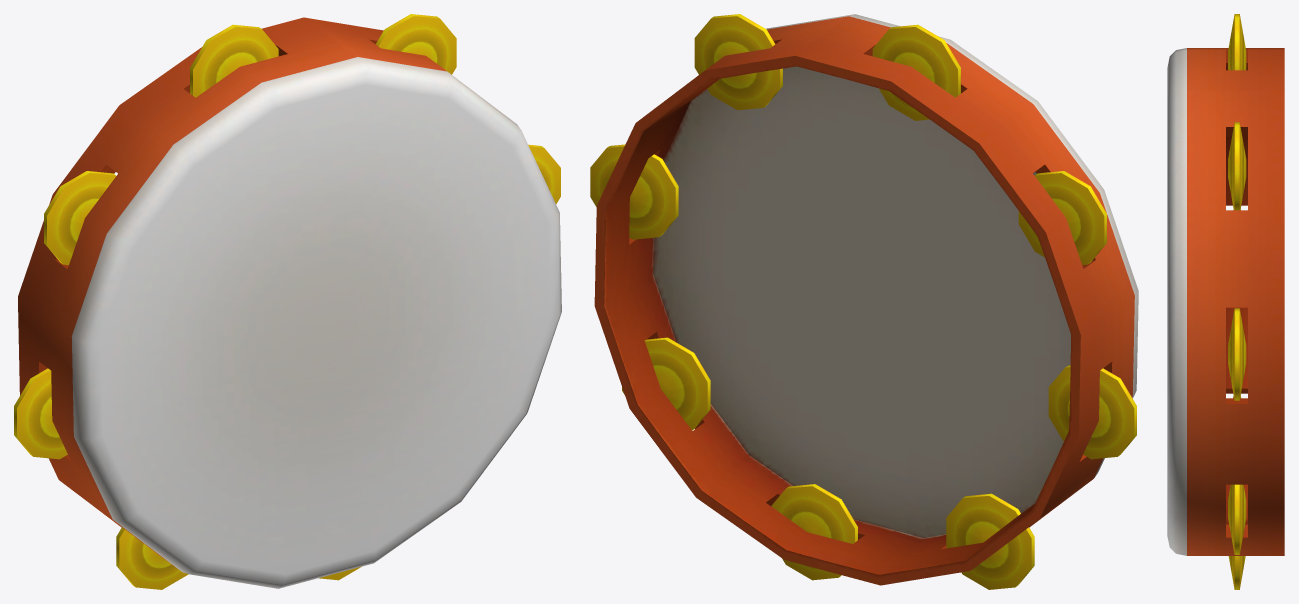
File: tambourine.fbx
3 renders of one model, left to right at view 1: azimuth 30°, elevation 25°; view 2: azimuth 150°, elevation 25°; view 3: azimuth 270°, elevation 25°, orthographic. The views are drawn at different scales.
Parts seen in each view (by area): view 1: tambourine; view 2: tambourine; view 3: tambourine.
Part boxes in pixels (x1,y1,x2,y2): tambourine: [14, 14, 561, 589]; tambourine: [590, 14, 1138, 589]; tambourine: [1167, 14, 1284, 589].
Bounding box in the file's own units: 0.5235 × 0.5322 × 0.1078.
